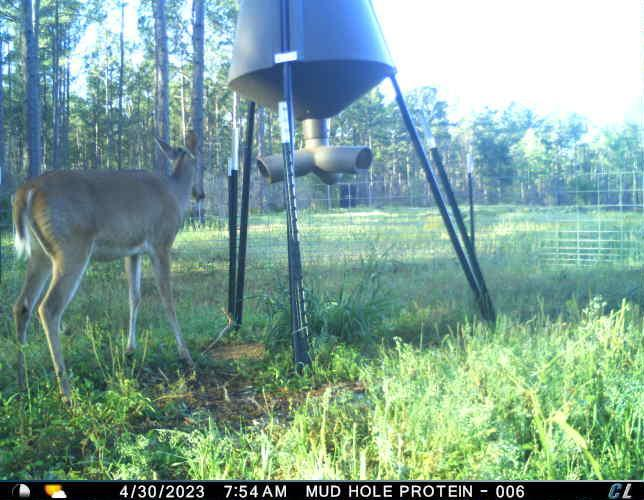Deer: (8, 128, 208, 407)
